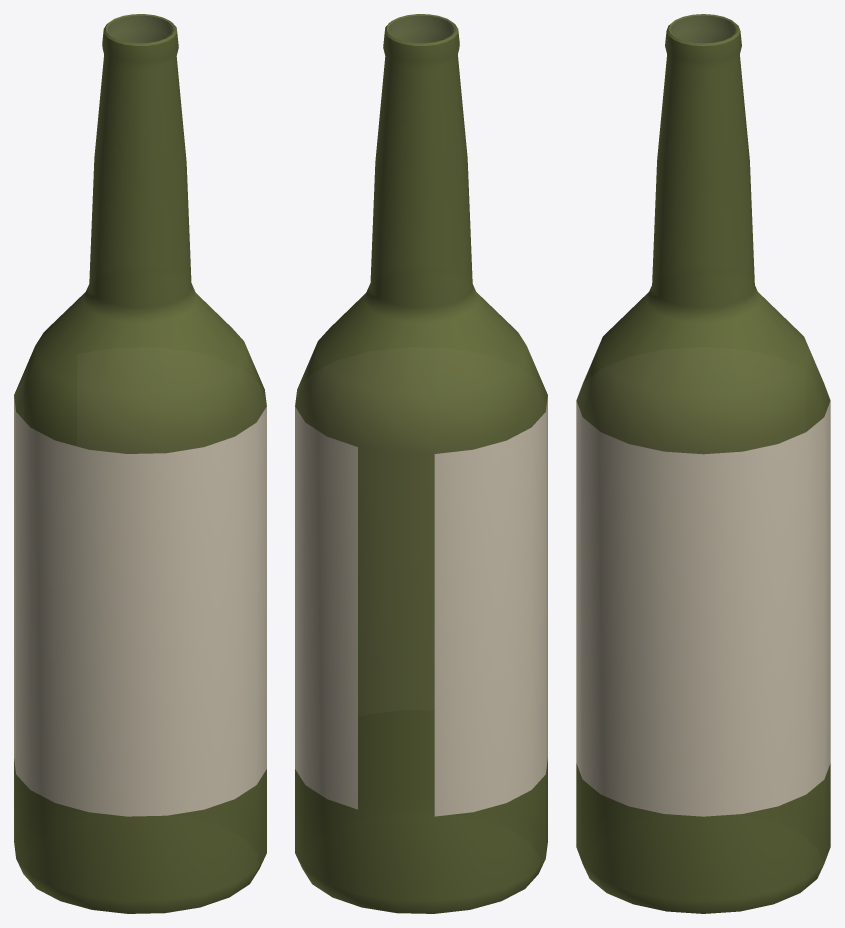
File: BeerBottle_01.fbx
3 views of the same model, side by side, from view 1: azimuth 30°, elevation 25°; view 2: azimuth 150°, elevation 25°; view 3: azimuth 270°, elevation 25° (orthographic).
Visible parts, largest first — view 1: pCylinder5; view 2: pCylinder5; view 3: pCylinder5.
Part boxes in pixels (box(x1,y1,x2,y2)): pCylinder5: box(14, 14, 266, 913); pCylinder5: box(295, 14, 547, 913); pCylinder5: box(576, 14, 830, 913).
Size of the model in its own units: 9.16 by 33.45 by 9.16.
